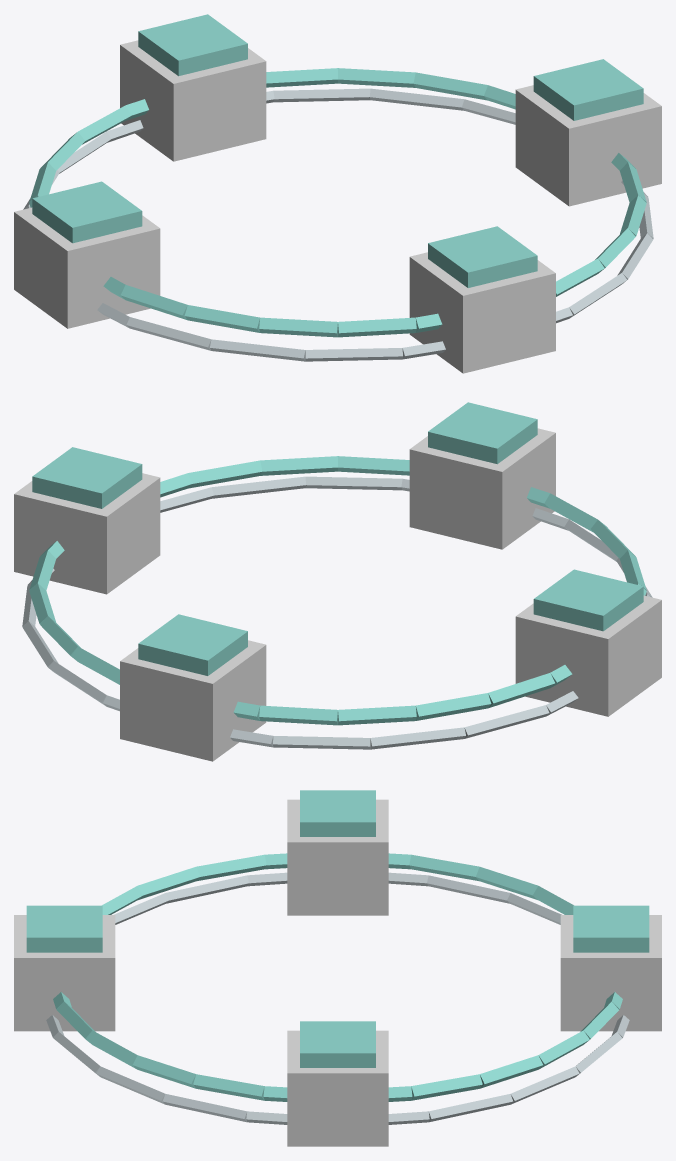
The model's file is space_ramparts_h1.glb.
3 renders of one model, top to bottom at view 1: azimuth 30°, elevation 25°; view 2: azimuth 150°, elevation 25°; view 3: azimuth 270°, elevation 25°, orthographic. The views are drawn at different scales.
Visible parts, largest first — view 1: WoodBody, FixedDetails, BrassTrim; view 2: WoodBody, FixedDetails, BrassTrim; view 3: WoodBody, FixedDetails, BrassTrim.
Part boxes in pixels (box(x1,y1,x2,y2)): WoodBody: box(14, 40, 661, 373); FixedDetails: box(29, 14, 646, 337); BrassTrim: box(23, 88, 653, 361); WoodBody: box(14, 428, 661, 761); FixedDetails: box(29, 402, 646, 725); BrassTrim: box(22, 476, 652, 749); WoodBody: box(14, 799, 661, 1146); FixedDetails: box(26, 790, 649, 1101); BrassTrim: box(46, 872, 629, 1124).
Size of the model in its own units: 0.64 by 0.096 by 0.64.
